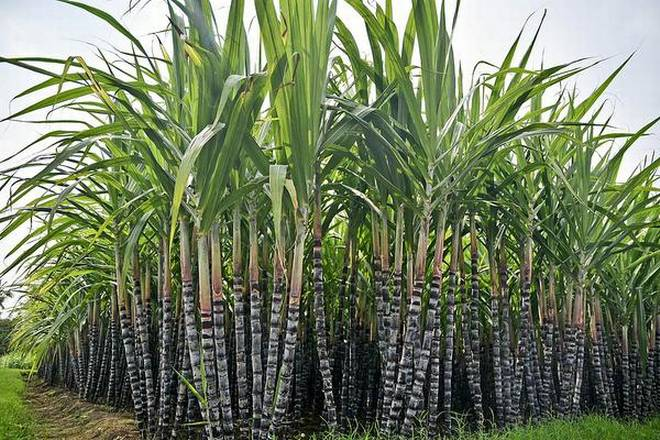sugarcane: (1, 5, 654, 440)
